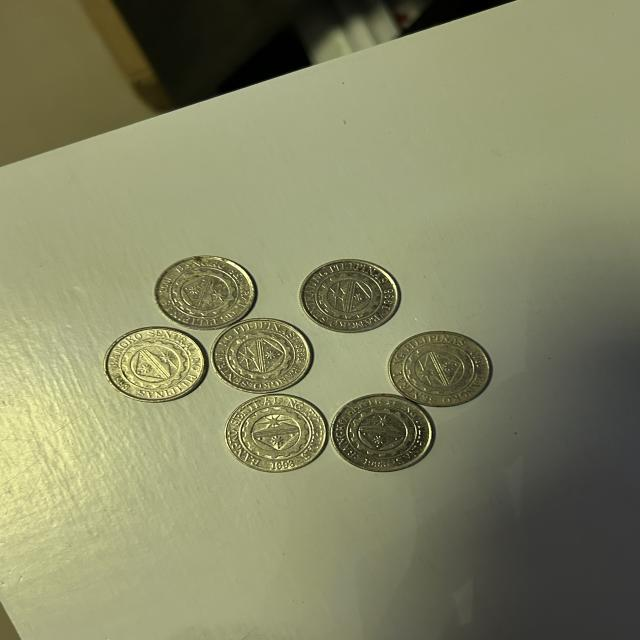1_Old_Back: (342, 402, 425, 466), (400, 345, 480, 401), (116, 337, 194, 393), (312, 266, 384, 326), (166, 264, 240, 322), (236, 407, 316, 460), (231, 328, 302, 384)
